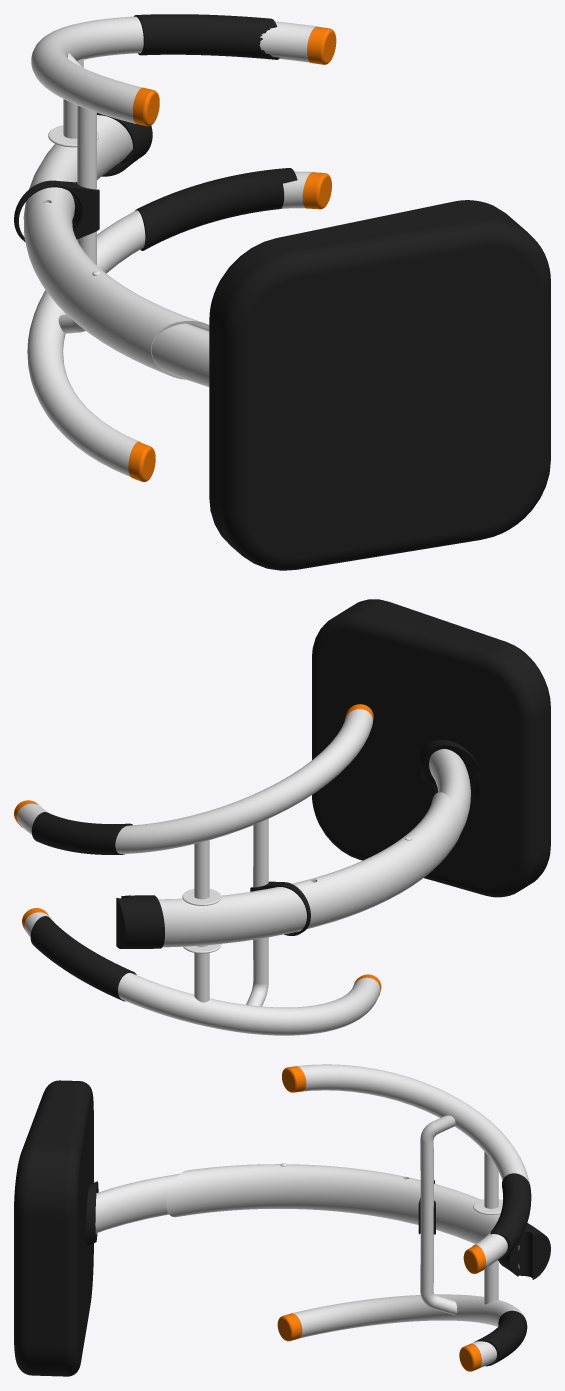
The model's file is c-seat-plegado.glb.
3 views of the same model, one above another, from view 1: azimuth 30°, elevation 25°; view 2: azimuth 150°, elevation 25°; view 3: azimuth 270°, elevation 25° (orthographic). The views are drawn at different scales.
Parts seen in each view (by area): view 1: Cuerpo1 (2), tubo inf, pata izq, pata dere (1), pata dere (2), Cuerpo1 (1), pata izq (1) (2) (1) (1), Tubo sup (1), Cuerpo25, Cuerpo14, Cuerpo10, pata izq (1) (+4 smaller); view 2: Cuerpo1 (1), tubo inf, pata izq, pata dere (1), Cuerpo1 (2), pata dere (2), pata izq (1) (2) (1) (1), Cuerpo10, Cuerpo25, Tubo sup (1), Eje, Tubo sup (1) (1) (+1 smaller); view 3: tubo inf, Cuerpo1 (2), Cuerpo1 (1), pata izq, pata dere (1), Cuerpo25, Tubo sup (1), pata izq (1) (2) (1) (1), Cuerpo10, pata dere (2), Eje, Tubo sup (1) (1) (+5 smaller).
Part boxes in pixels (x1,y1,x2,y2): Cuerpo1 (2): [218, 207, 550, 570]; tubo inf: [23, 115, 209, 379]; pata izq: [31, 16, 317, 123]; pata dere (1): [27, 210, 145, 476]; pata dere (2): [135, 168, 297, 250]; Cuerpo1 (1): [209, 200, 511, 550]; pata izq (1) (2) (1) (1): [134, 14, 279, 59]; Tubo sup (1): [92, 270, 209, 386]; Cuerpo25: [58, 53, 96, 333]; Cuerpo14: [14, 180, 99, 241]; Cuerpo10: [97, 112, 152, 176]; pata izq (1): [307, 26, 336, 64]; Cuerpo1 (1): [312, 609, 544, 897]; tubo inf: [158, 792, 460, 947]; pata izq: [17, 709, 372, 853]; pata dere (1): [118, 973, 380, 1035]; Cuerpo1 (2): [341, 599, 550, 884]; pata dere (2): [30, 916, 136, 1001]; pata izq (1) (2) (1) (1): [31, 812, 132, 854]; Cuerpo10: [116, 895, 164, 948]; Cuerpo25: [246, 818, 268, 1006]; Tubo sup (1): [312, 749, 470, 882]; Eje: [194, 840, 209, 1002]; Tubo sup (1) (1): [418, 740, 483, 804]; tubo inf: [166, 1164, 519, 1268]; Cuerpo1 (2): [14, 1080, 68, 1376]; Cuerpo1 (1): [53, 1080, 93, 1376]; pata izq: [296, 1064, 529, 1268]; pata dere (1): [291, 1294, 524, 1338]; Cuerpo25: [420, 1115, 457, 1314]; Tubo sup (1): [95, 1163, 286, 1233]; pata izq (1) (2) (1) (1): [490, 1173, 531, 1259]; Cuerpo10: [498, 1223, 550, 1279]; pata dere (2): [474, 1310, 527, 1366]; Eje: [484, 1151, 498, 1304]; Tubo sup (1) (1): [86, 1181, 98, 1245].
Bounding box in the file's own units: 0.3209 × 0.2924 × 0.5179.
